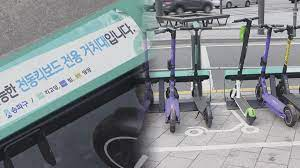kick_handler: (180, 22, 212, 33), (255, 23, 285, 30), (233, 17, 260, 24)
kick_neck: (260, 35, 271, 82), (283, 38, 292, 92), (192, 36, 200, 93), (169, 34, 175, 92)
